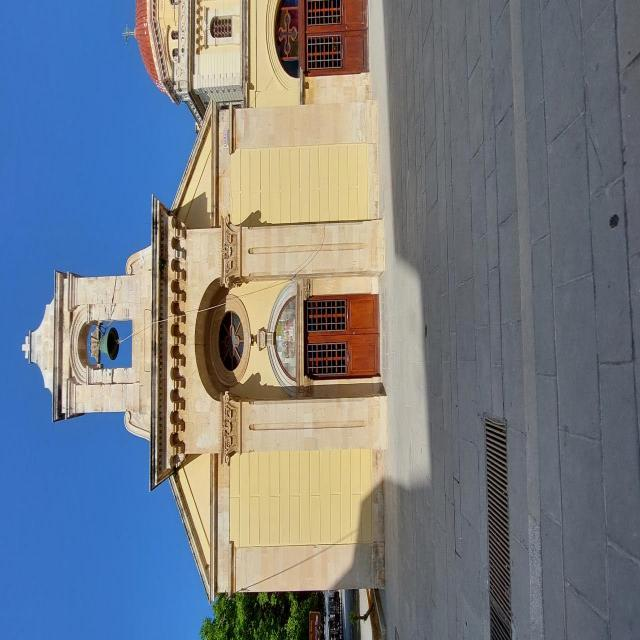Agios Minas: (18, 1, 289, 640)
